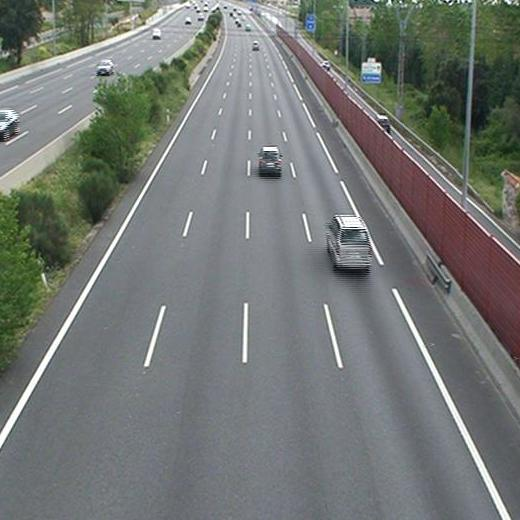car: (328, 216, 372, 269), (259, 148, 282, 171), (252, 42, 258, 50)
